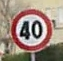limite 40: (9, 7, 53, 53)
